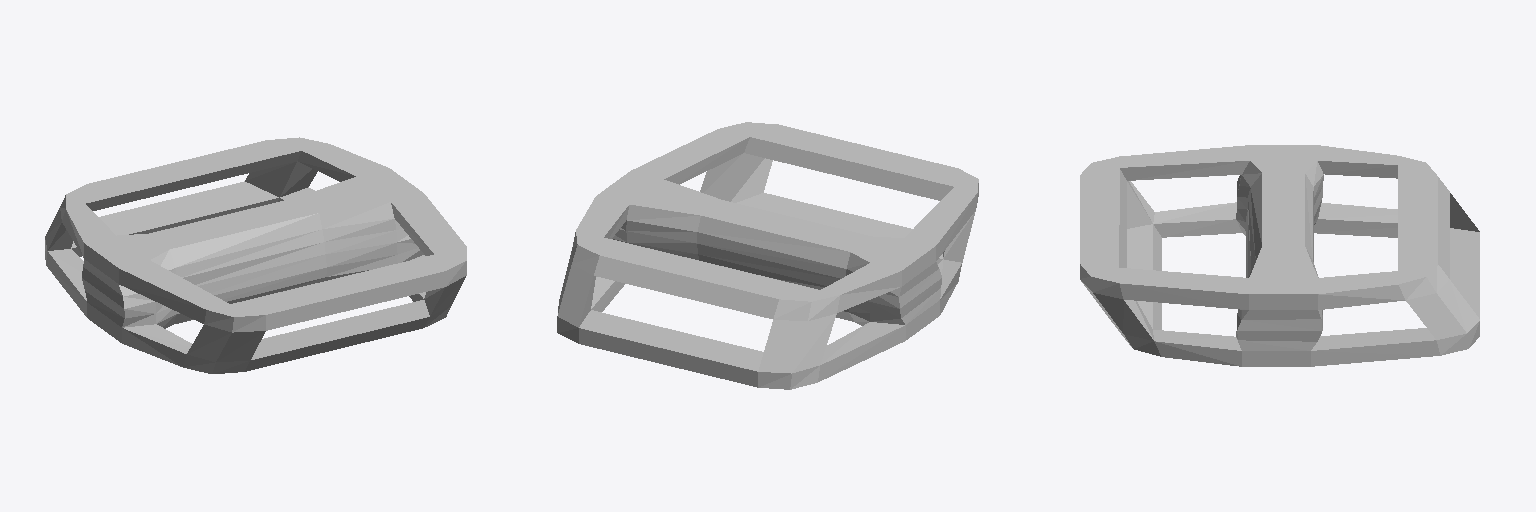
Rendered from Pedal_01_LOD1-sharedassets2.assets-299.obj.
The picture shows the model from 3 angles: view 1: azimuth 30°, elevation 25°; view 2: azimuth 150°, elevation 25°; view 3: azimuth 270°, elevation 25°; orthographic projection.
Visible parts, largest first — view 1: Default; view 2: Default; view 3: Default.
Part boxes in pixels (left/top/right/bottom): Default: left=45, top=137, right=466, bottom=373; Default: left=557, top=122, right=978, bottom=389; Default: left=1080, top=145, right=1479, bottom=366.
Size of the model in its own units: 0.0927 by 0.021 by 0.105.